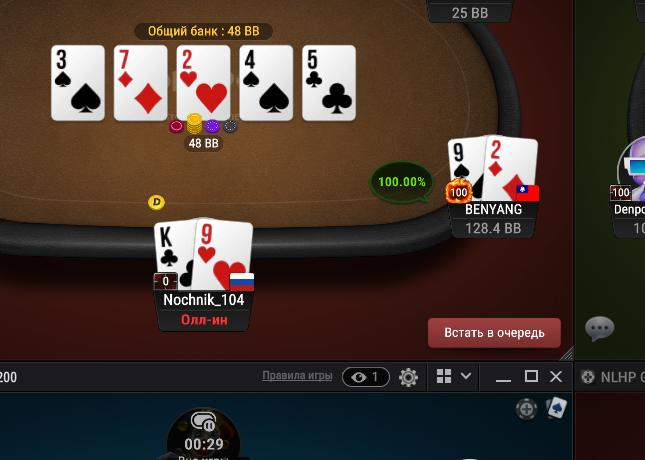2d: (485, 132, 537, 204)
2h: (176, 47, 229, 119)
3s: (52, 44, 104, 119)
4s: (239, 45, 292, 120)
5c: (302, 46, 355, 120)
7d: (114, 47, 166, 120)
9h: (194, 218, 251, 294)
9s: (448, 136, 486, 204)
Kc: (152, 219, 195, 290)
